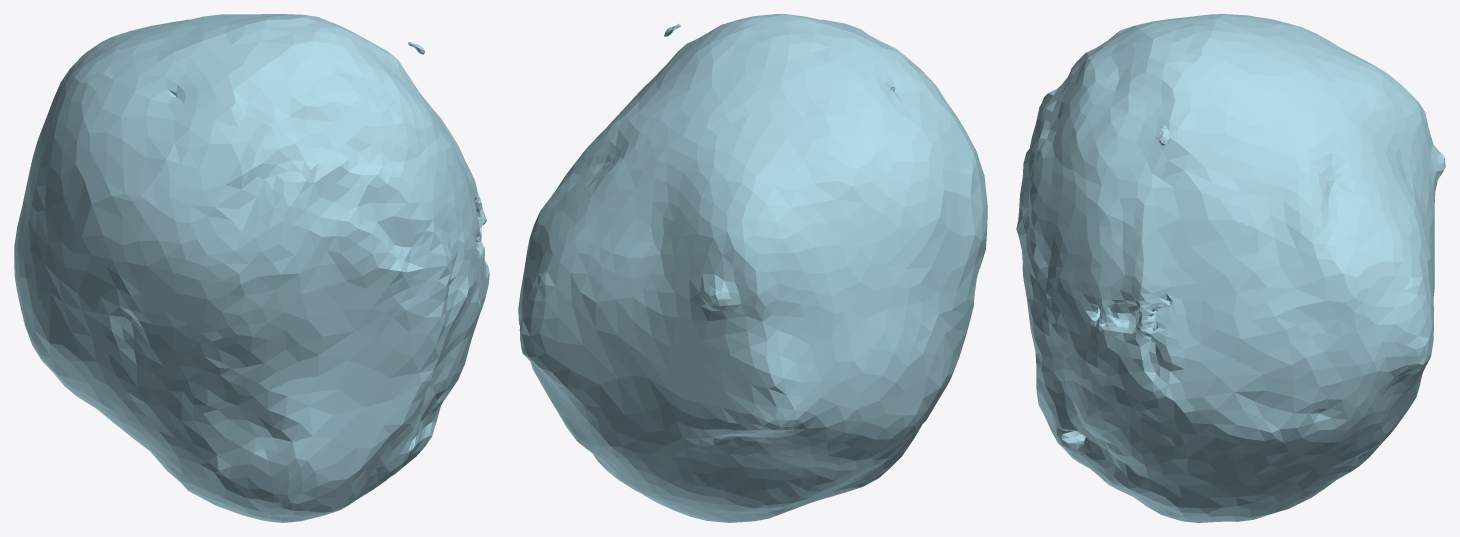
The model's file is tumor.obj.
3 views of the same model, side by side, from view 1: azimuth 30°, elevation 25°; view 2: azimuth 150°, elevation 25°; view 3: azimuth 270°, elevation 25° (orthographic). The views are drawn at different scales.
Visible parts, largest first — view 1: grp1; view 2: grp1; view 3: grp1.
Part boxes in pixels (box(x1,y1,x2,y2)): grp1: box(14, 14, 489, 522); grp1: box(518, 14, 987, 522); grp1: box(1016, 14, 1445, 522).
Size of the model in its own units: 103 by 119 by 102.
